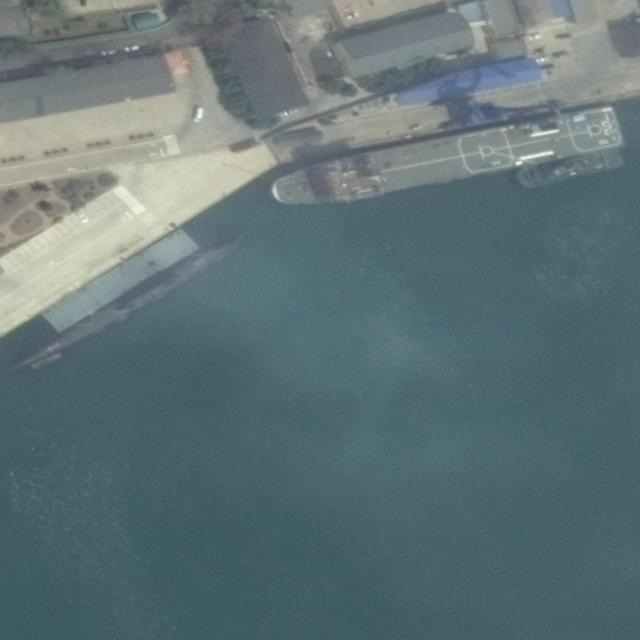Auxiliary Ships: (266, 105, 621, 212)
Other Warship: (514, 147, 626, 191)
Submarine: (1, 224, 257, 387)
